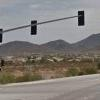Traffic light: (26, 8, 90, 40)
